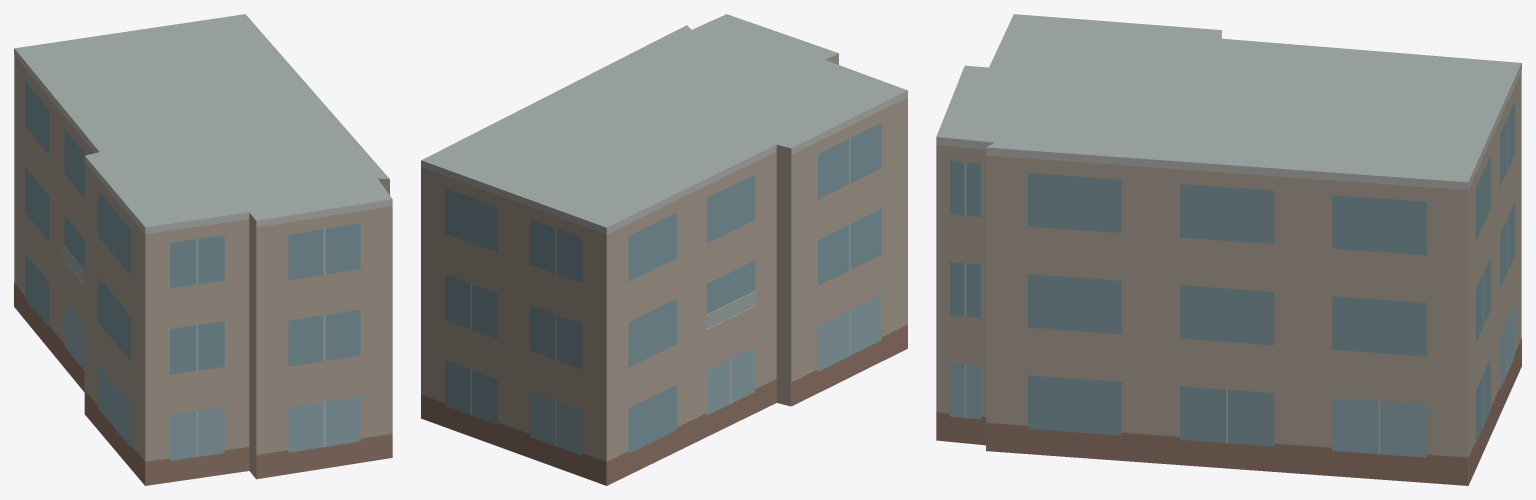
File: survey-upis-32679275.glb
3 views of the same model, side by side, from view 1: azimuth 30°, elevation 25°; view 2: azimuth 150°, elevation 25°; view 3: azimuth 270°, elevation 25° (orthographic). The views are drawn at different scales.
Visible parts, largest first — view 1: survey-upis-32679275.tmp; view 2: survey-upis-32679275.tmp; view 3: survey-upis-32679275.tmp.
Boxes of the visible parts, <box> form: survey-upis-32679275.tmp: <box>14,14,392,485</box>; survey-upis-32679275.tmp: <box>421,14,907,485</box>; survey-upis-32679275.tmp: <box>936,14,1521,485</box>.
Size of the model in its own units: 11.07 by 9.3 by 16.27.
